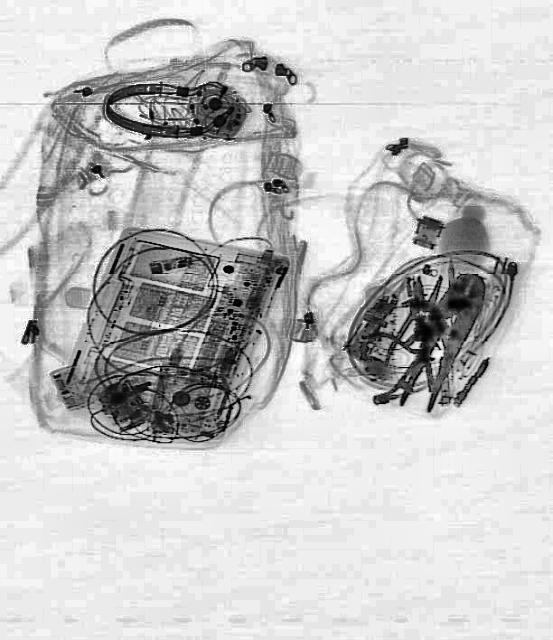Pliers: (394, 262, 492, 420), (358, 314, 446, 400), (385, 269, 453, 373)
